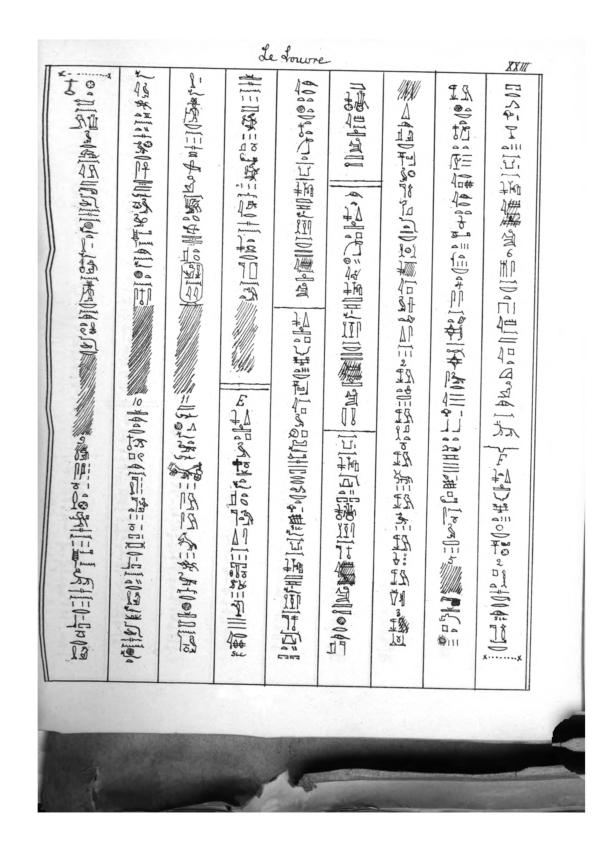circle: (180, 262, 205, 307)
